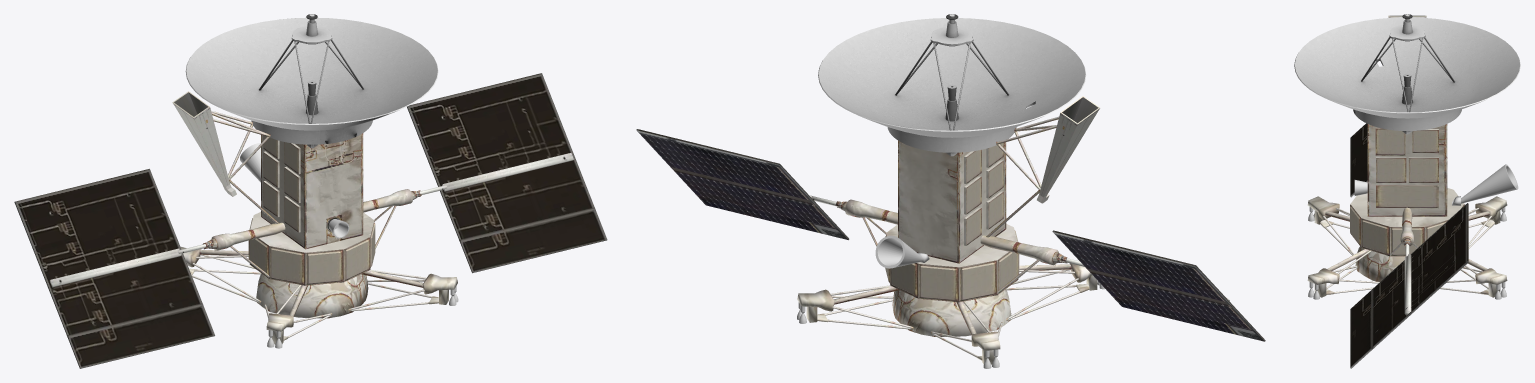
Rendered from magellan_nasa_3d_resources.glb.
The picture shows the model from 3 angles, left to right: view 1: azimuth 30°, elevation 25°; view 2: azimuth 150°, elevation 25°; view 3: azimuth 270°, elevation 25°; orthographic projection. The views are drawn at different scales.
Parts seen in each view (by area): view 1: tex_01, dish_etc, aluminum.002, aluminum; view 2: tex_01, dish_etc, shiny_panel, aluminum; view 3: tex_01, dish_etc, aluminum, aluminum.002.
Boxes of the visible parts, x1=… form: tex_01: x1=14, y1=73, x2=607, y2=368; dish_etc: x1=185, y1=14, x2=438, y2=148; aluminum.002: x1=267, y1=219, x2=458, y2=348; aluminum: x1=240, y1=143, x2=260, y2=182; tex_01: x1=636, y1=96, x2=1265, y2=364; dish_etc: x1=818, y1=14, x2=1086, y2=156; shiny_panel: x1=637, y1=130, x2=1264, y2=341; aluminum: x1=875, y1=235, x2=922, y2=268; tex_01: x1=1307, y1=15, x2=1507, y2=368; dish_etc: x1=1294, y1=14, x2=1520, y2=134; aluminum: x1=1461, y1=164, x2=1518, y2=203; aluminum.002: x1=1308, y1=180, x2=1506, y2=299.
Size of the model in its own units: 8.9 by 4.53 by 3.7.
Materials: 5 (3 with a texture image).
